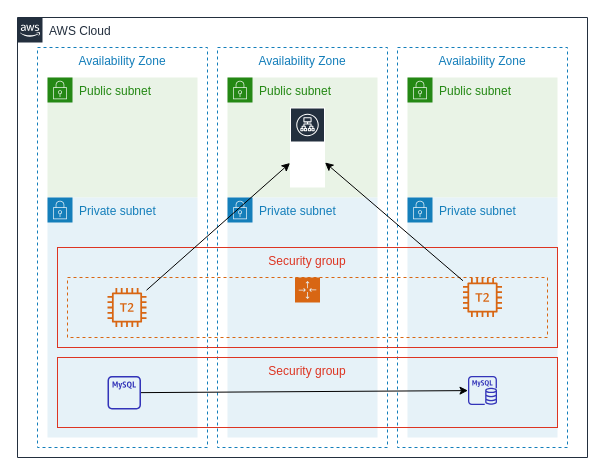
Image size: 605x475. Some labels were removed from this diagram. The box of each missing label's shape, as (x1, y1, x2, y2) in pixels:
Application Load Balancer: (289, 106, 325, 188)
Auto Scaling group: (66, 276, 548, 338)
